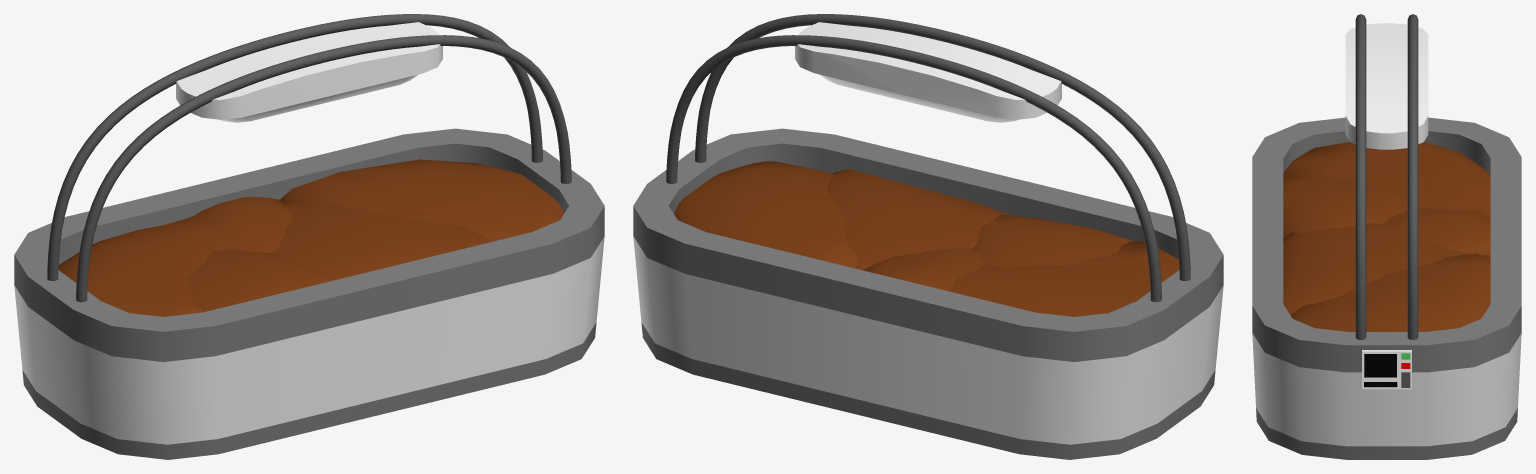
Rendered from farm.fbx.
3 renders of one model, left to right at view 1: azimuth 30°, elevation 25°; view 2: azimuth 150°, elevation 25°; view 3: azimuth 270°, elevation 25°, orthographic. The views are drawn at different scales.
Visible parts, largest first — view 1: Cube; view 2: Cube; view 3: Cube.
Part boxes in pixels (<box>): Cube: <box>14,14,604,459</box>; Cube: <box>633,14,1223,459</box>; Cube: <box>1252,14,1521,459</box>.
Size of the model in its own units: 422 by 245 by 207.
